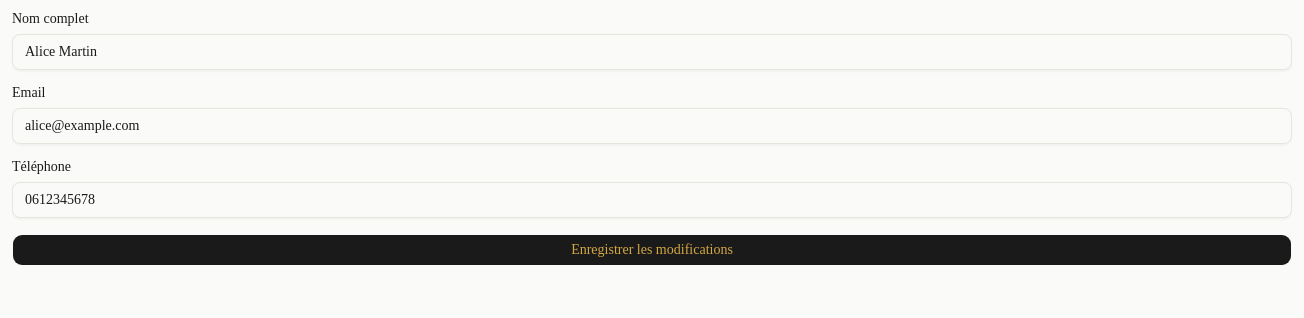
Test: <ProfileForm> › displays a pending-email notice when the email change is pending confirmation
Click the button "Enregistrer les modifications": [652, 250] box [12,234,1292,266]
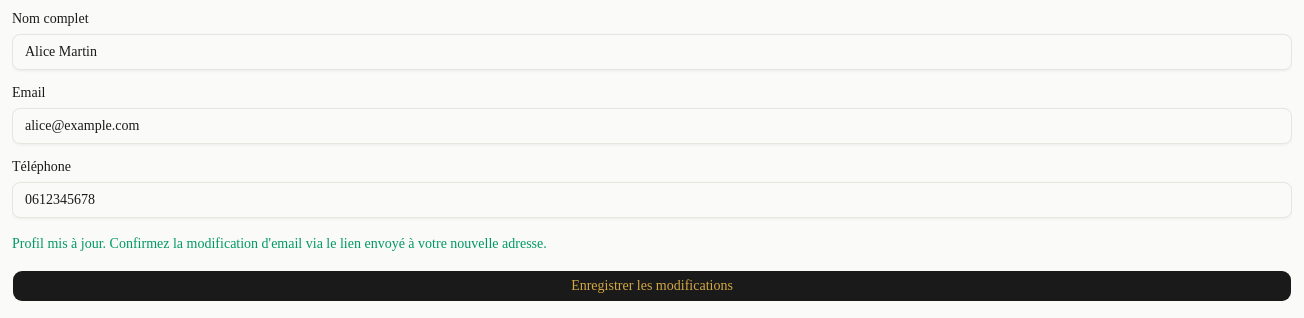
Expected: the message shows "Confirmez la modification d'email", [12,236,547,251]
